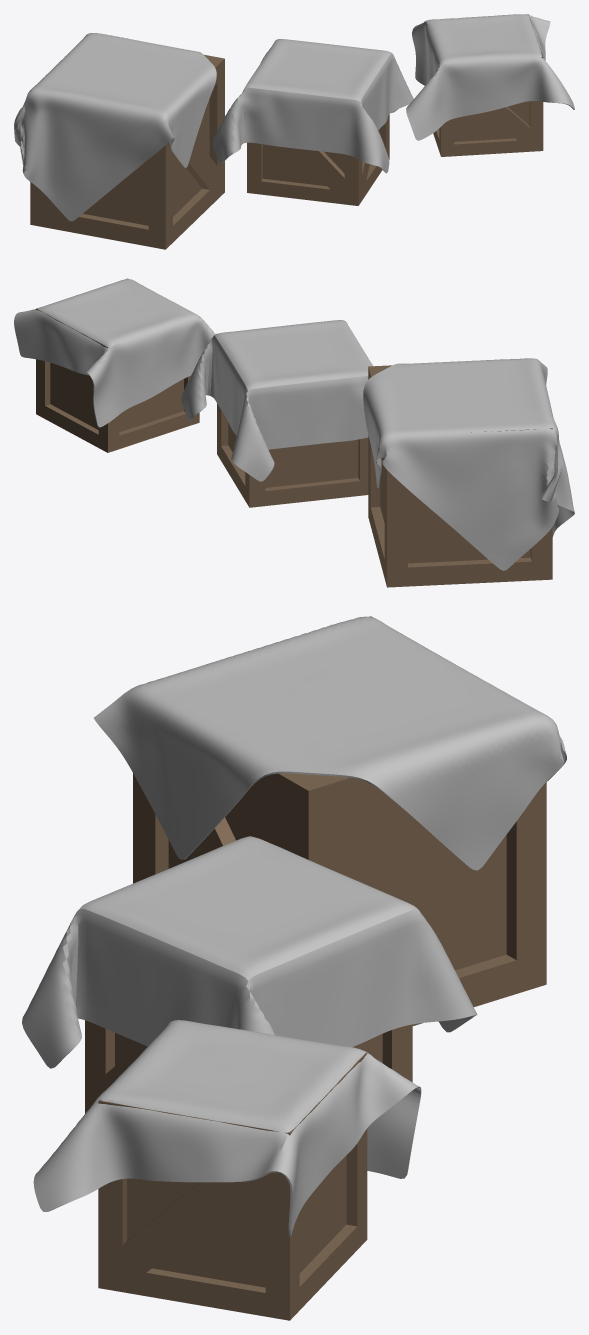
File: Boxes.fbx
3 views of the same model, one above another, from view 1: azimuth 30°, elevation 25°; view 2: azimuth 150°, elevation 25°; view 3: azimuth 270°, elevation 25° (orthographic). The views are drawn at different scales.
Visible parts, largest first — view 1: Cloth.002, Box.001, Cloth.004; view 2: Cloth.002, Box.001, Cloth.004; view 3: Cloth.002, Cloth.004, Box.001.
Part boxes in pixels (left/top/right/bottom): Cloth.002: left=14, top=33, right=224, bottom=249; Box.001: left=212, top=39, right=413, bottom=205; Cloth.004: left=406, top=14, right=574, bottom=156; Cloth.002: left=363, top=358, right=574, bottom=587; Box.001: left=181, top=320, right=373, bottom=507; Cloth.004: left=14, top=278, right=215, bottom=452; Cloth.002: left=94, top=616, right=566, bottom=1025; Cloth.004: left=33, top=1020, right=421, bottom=1320; Box.001: left=22, top=836, right=477, bottom=1113.
Bounding box in the file's own units: 599 × 153 × 277.
